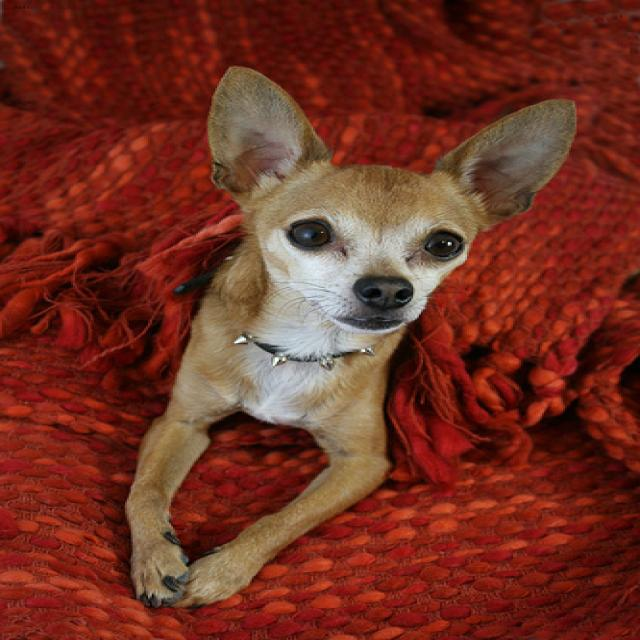dog-chihuahua: (110, 50, 594, 618)
